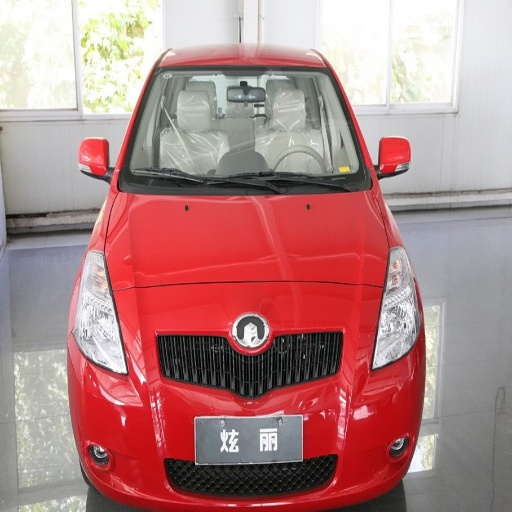front_bumper: (72, 286, 421, 511)
front_right_light: (72, 249, 128, 374)
hood: (106, 191, 386, 289)
left_mirror: (377, 137, 411, 178)
right_mirror: (79, 140, 111, 182)
